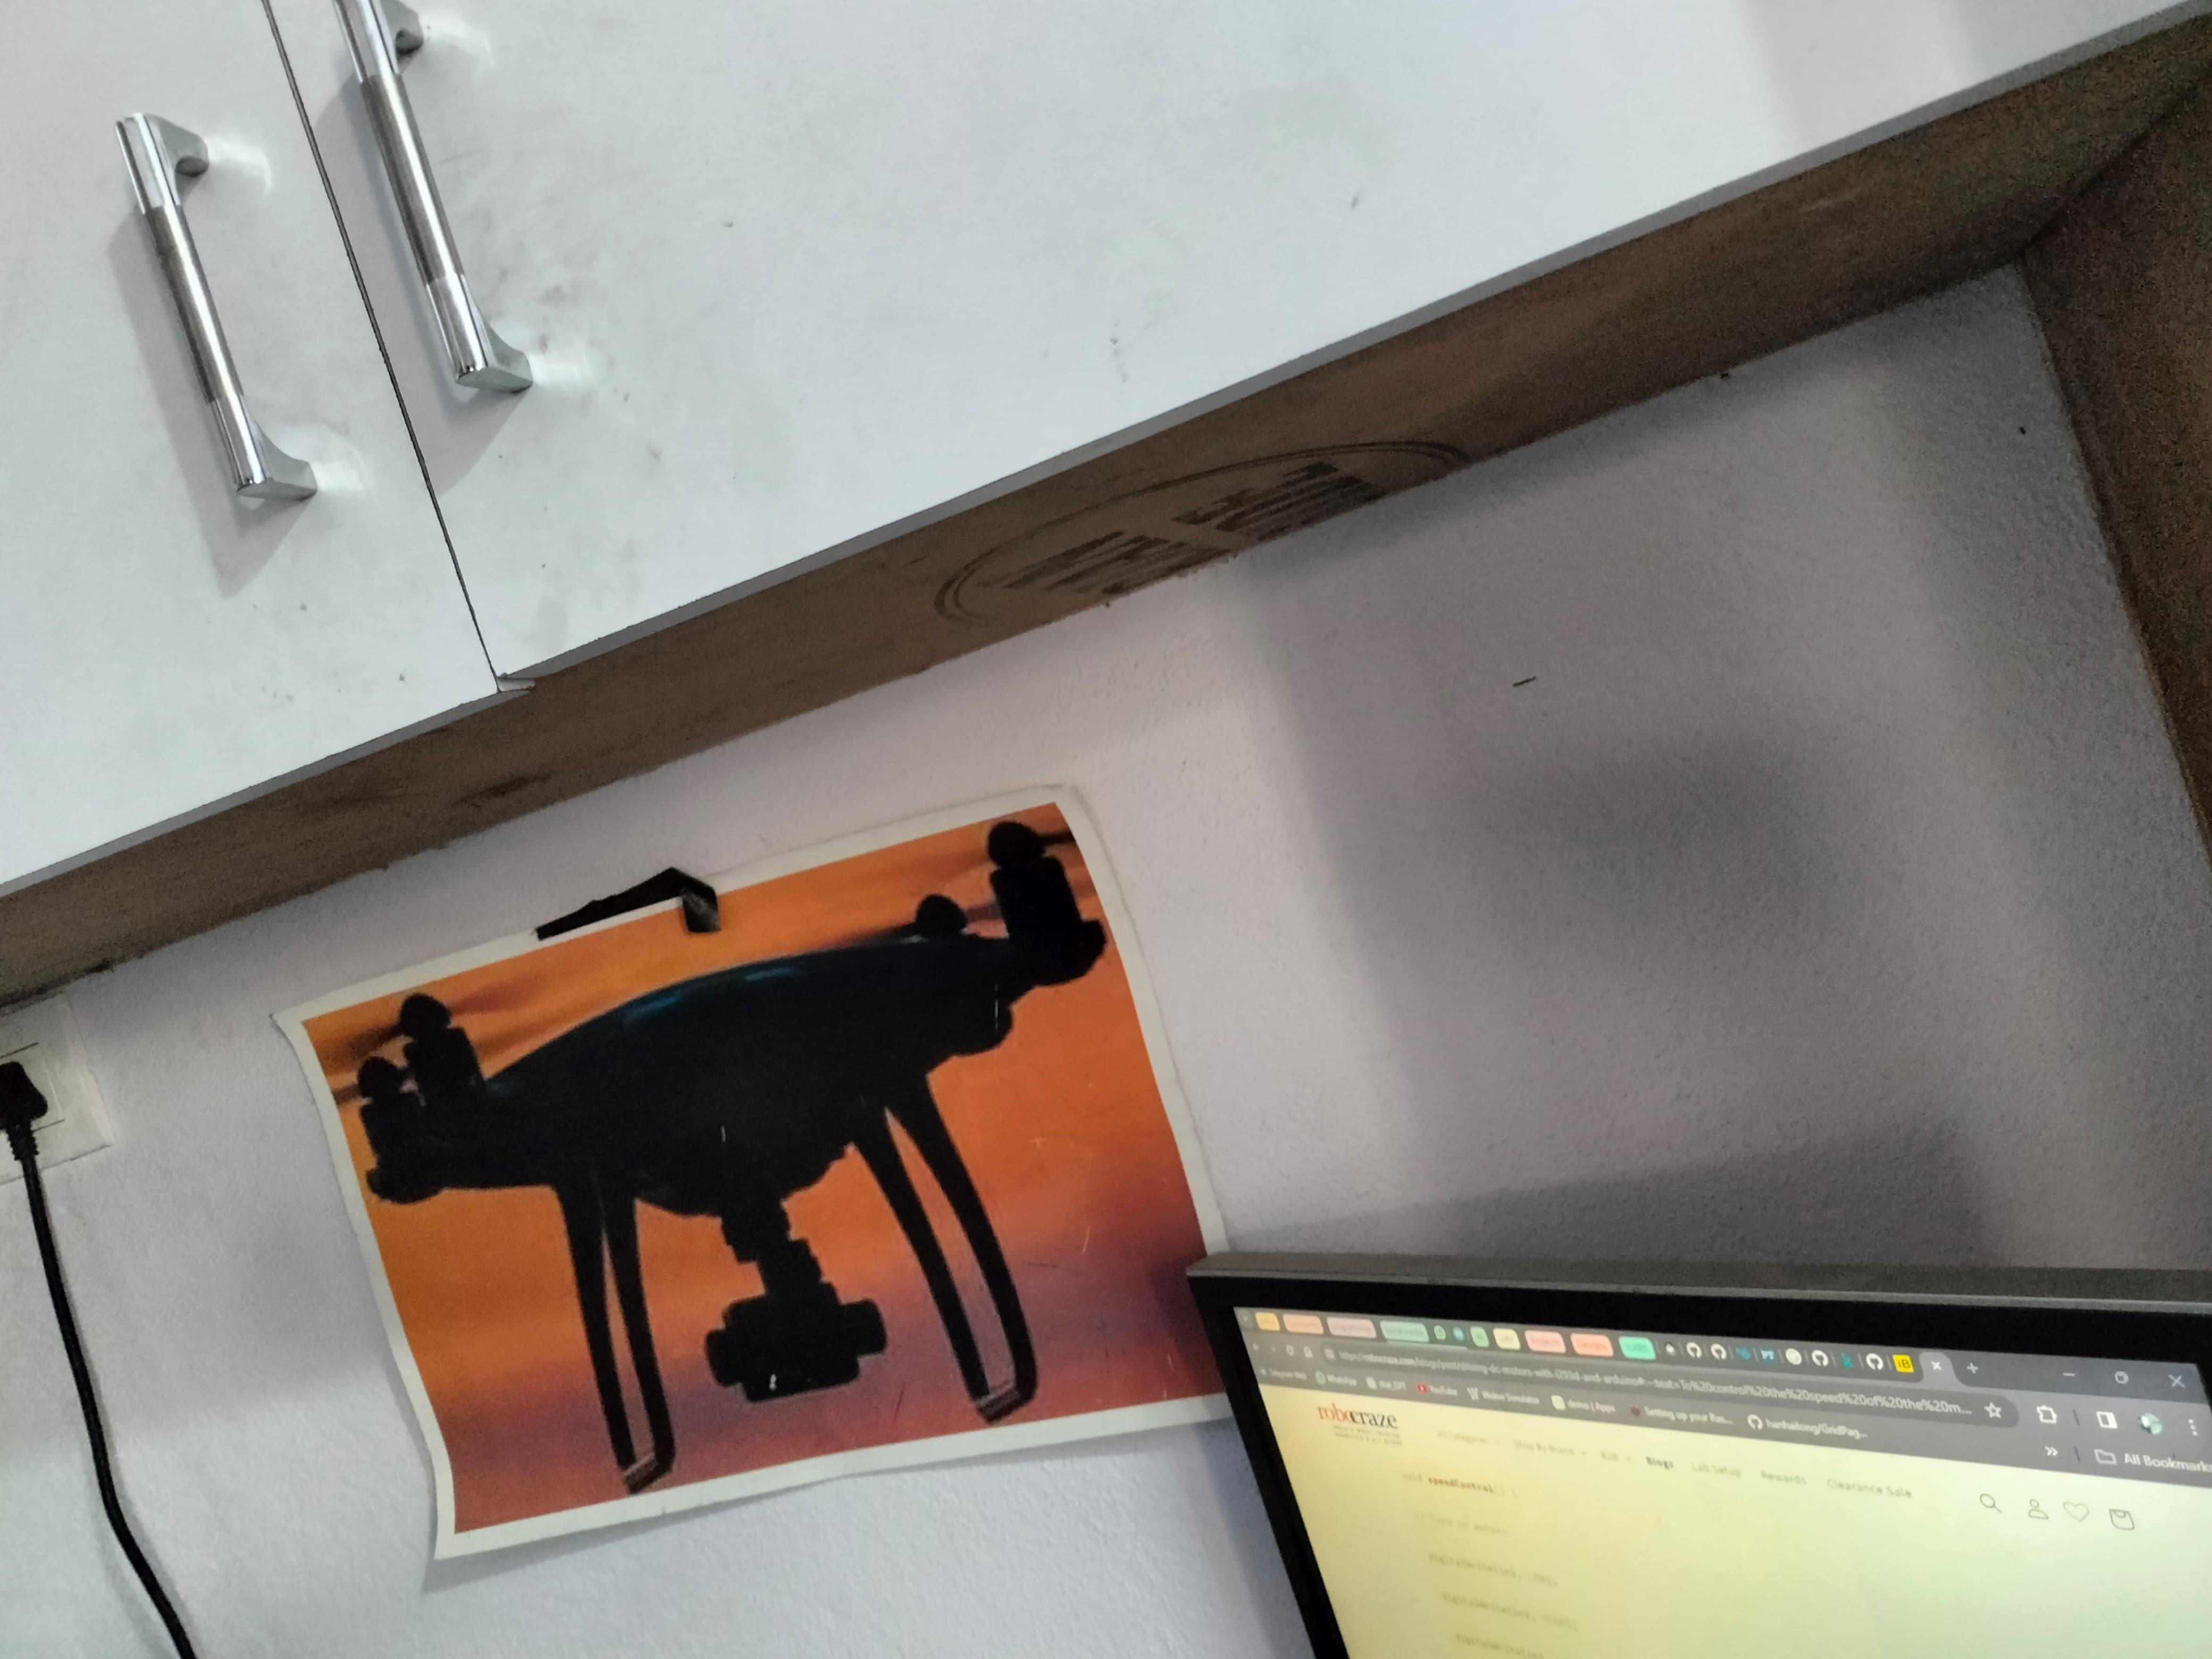drone: (345, 810, 1116, 1507)
